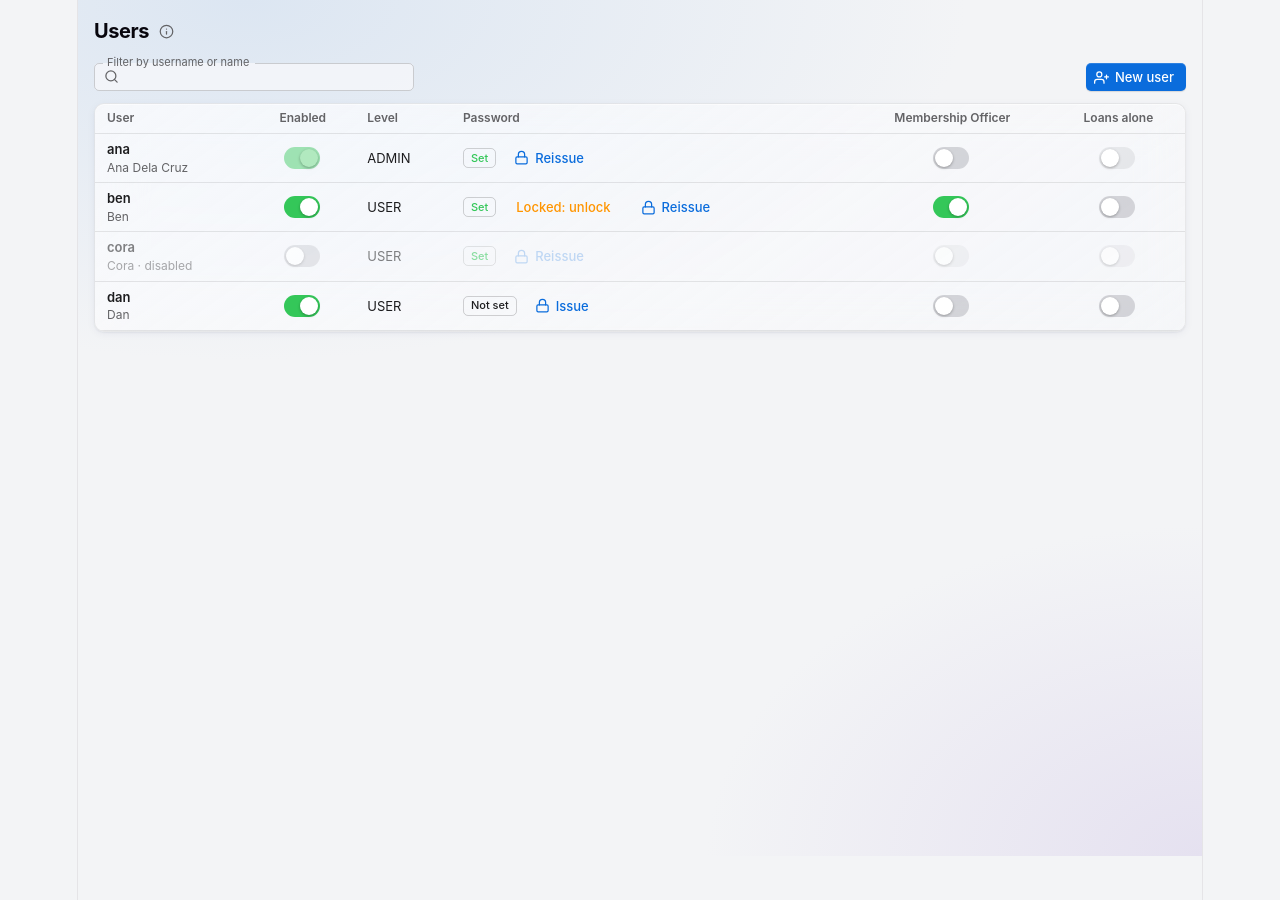
it: Users › switches an account off after asking, and on again at once
The image size is (1280, 900).
Expected: the text "Ana Dela Cruz" is shown, [107,160,188,175]
Click the switch named "ben is enabled".
click(309, 207)  # box [300,198,318,216]
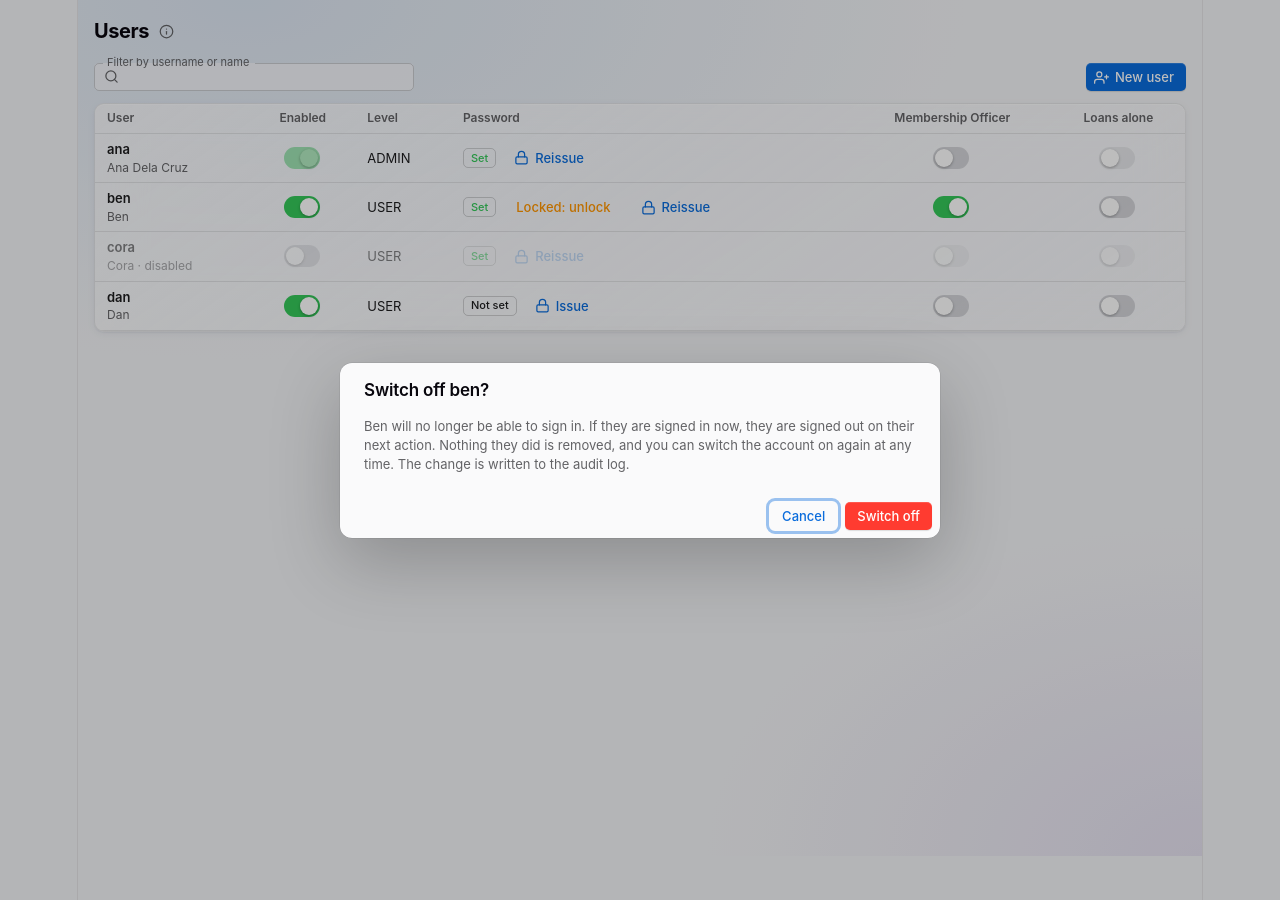
Result: the dialog "Switch off ben?" shows "will no longer be able to sign in" at [364,418,914,472]
Click the button "Switch off".
click(889, 515)  # box [845,501,932,529]
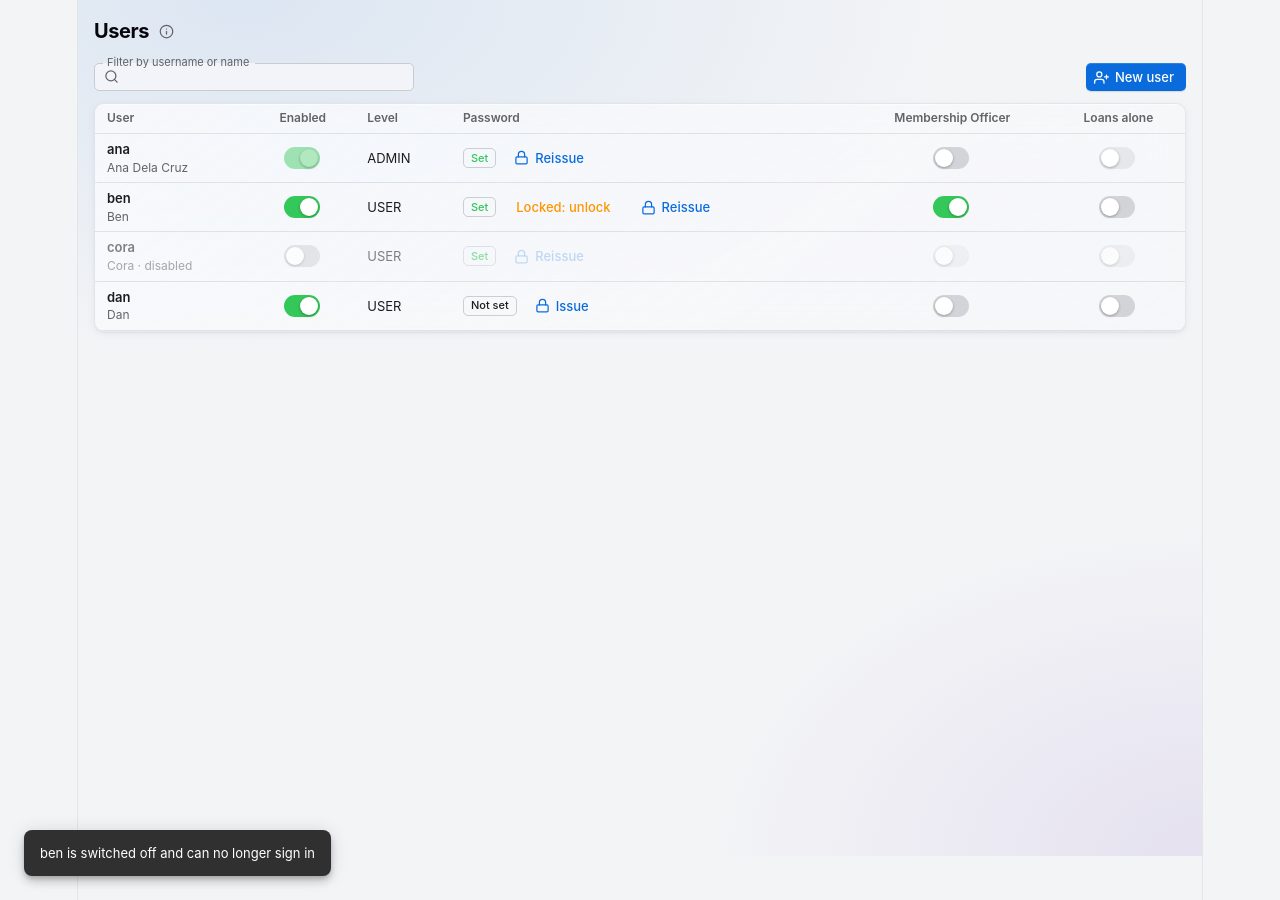
# the page behind stays hidden from screen readers until the dialog's closing animation ends
Click the switch named "cora is enabled".
click(295, 256)  # box [286,247,304,265]
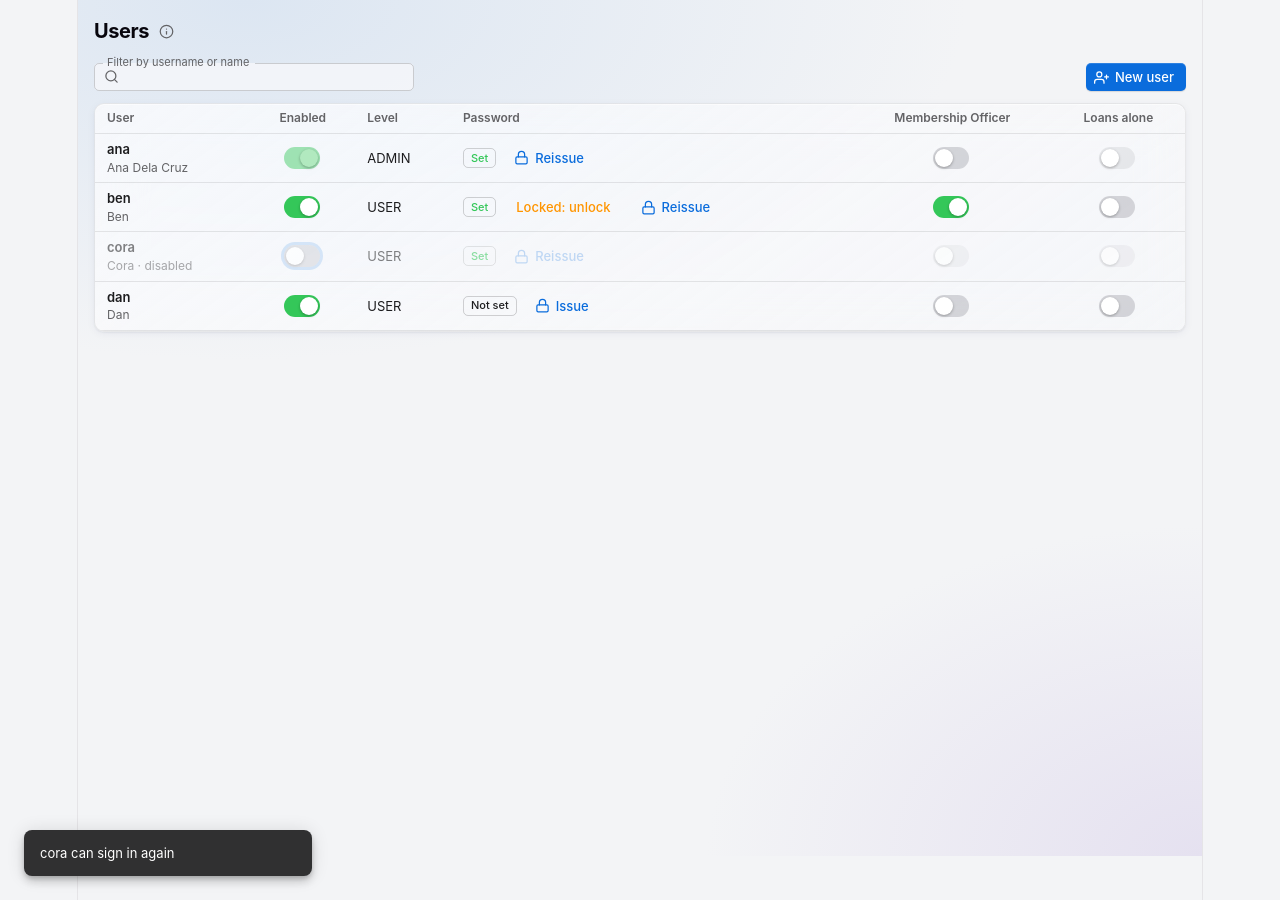
Result: the text "cora can sign in again" is shown at [40,845,174,861]
